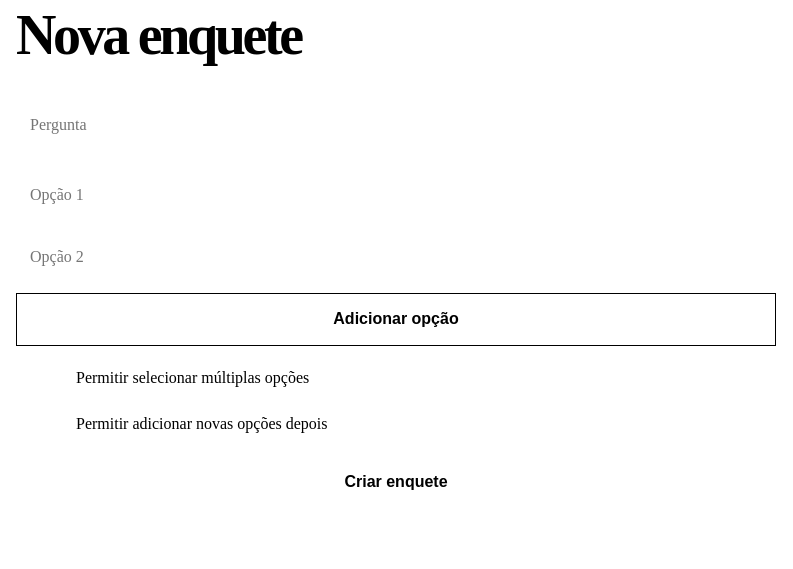
Test: poll presentation › animates the add-option button when opening space for a new option
Click the button "Adicionar opção": click(396, 320) [16,293,776,346]
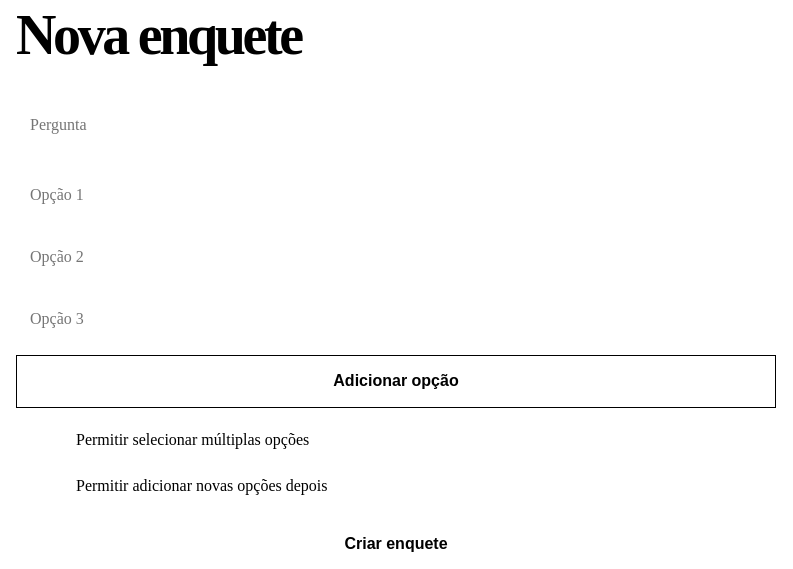
Check: the field labelled "Opção 3" is shown, box [16,294,776,345]
